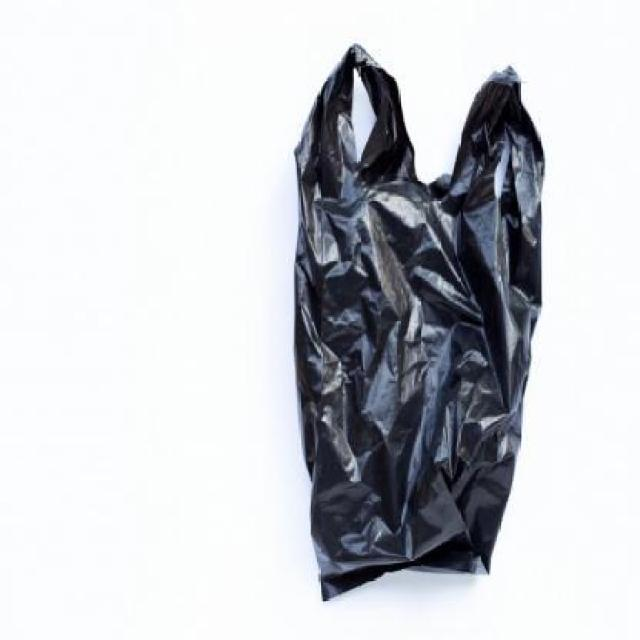plastic bag: (295, 43, 538, 609)
